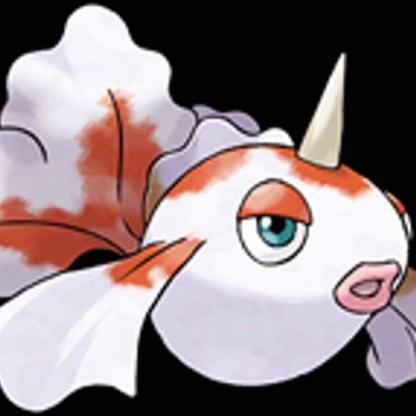Goldeen: (1, 4, 416, 396)
